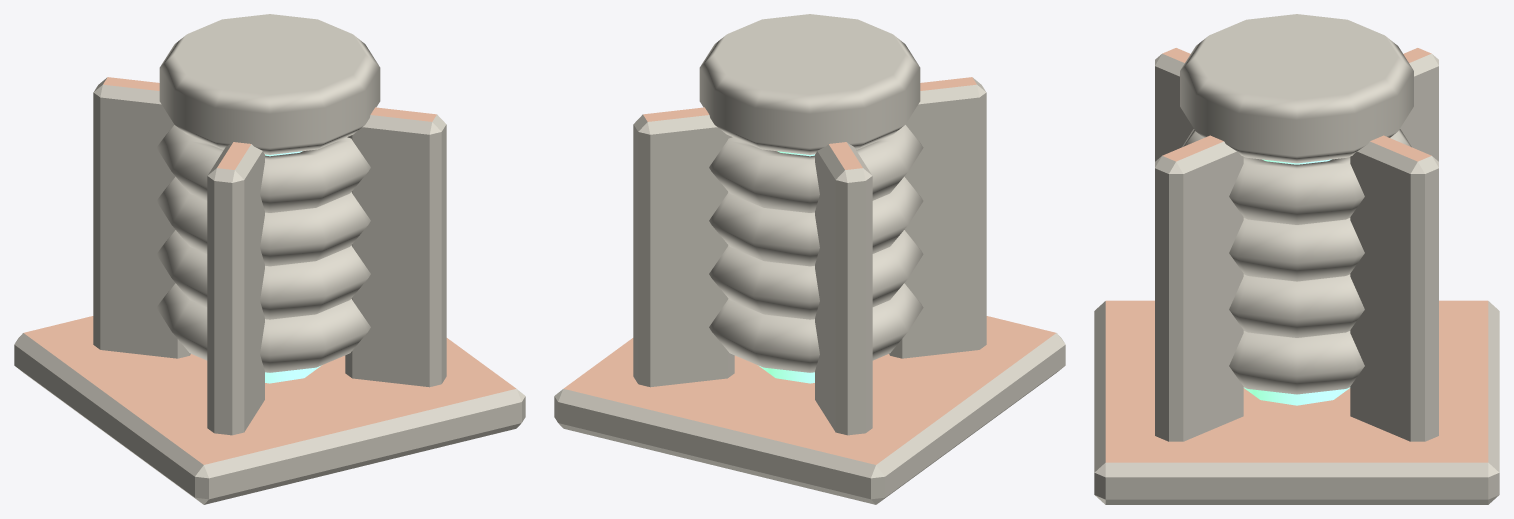
File: R4X_EnergyRegenerator_LOD1.fbx
The picture shows the model from 3 angles, left to right: view 1: azimuth 30°, elevation 25°; view 2: azimuth 150°, elevation 25°; view 3: azimuth 270°, elevation 25°; orthographic projection. The views are drawn at different scales.
Visible parts, largest first — view 1: R4X_EnergyRegenerator_LOD1; view 2: R4X_EnergyRegenerator_LOD1; view 3: R4X_EnergyRegenerator_LOD1.
Part boxes in pixels (left/top/right/bottom): R4X_EnergyRegenerator_LOD1: left=14, top=14, right=525, bottom=504; R4X_EnergyRegenerator_LOD1: left=554, top=14, right=1065, bottom=504; R4X_EnergyRegenerator_LOD1: left=1094, top=14, right=1499, bottom=504.
Size of the model in its own units: 0.52 by 0.52 by 0.52.
